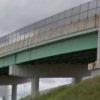Bridge: (4, 5, 95, 78)
